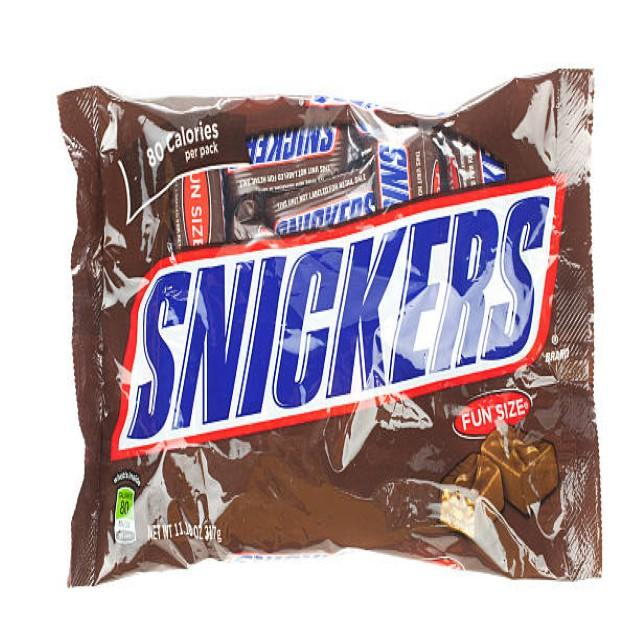snickers_chocolate: (135, 84, 600, 578)
